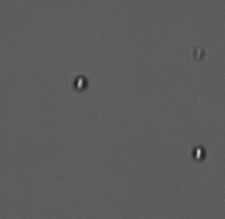Living Cell: (71, 74, 88, 92), (190, 145, 206, 162)
